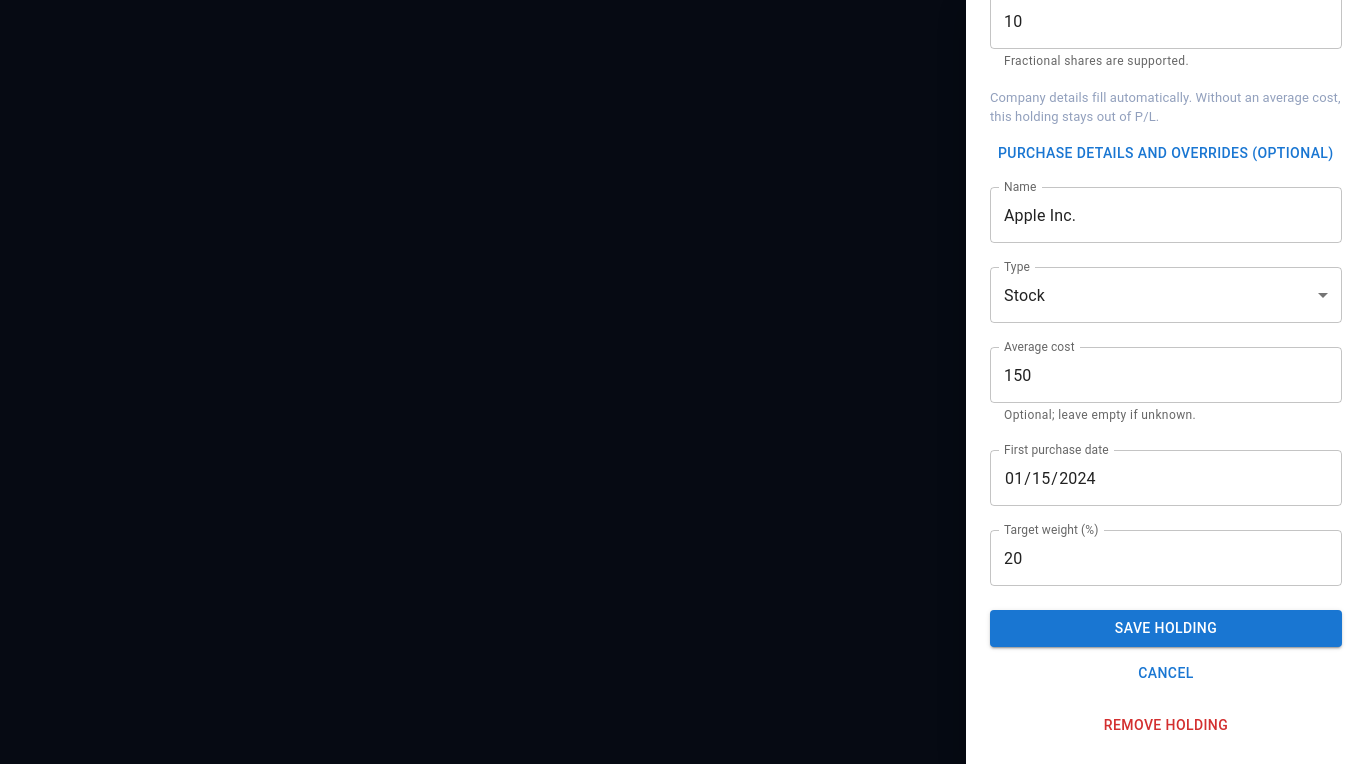
Test: HoldingForm › shows the backend's error inline and stays open
(page scrolled)
Step 1. Click the button "Save holding" → coordinates (1166, 629), box top-left (990, 610), bottom-right (1342, 647)
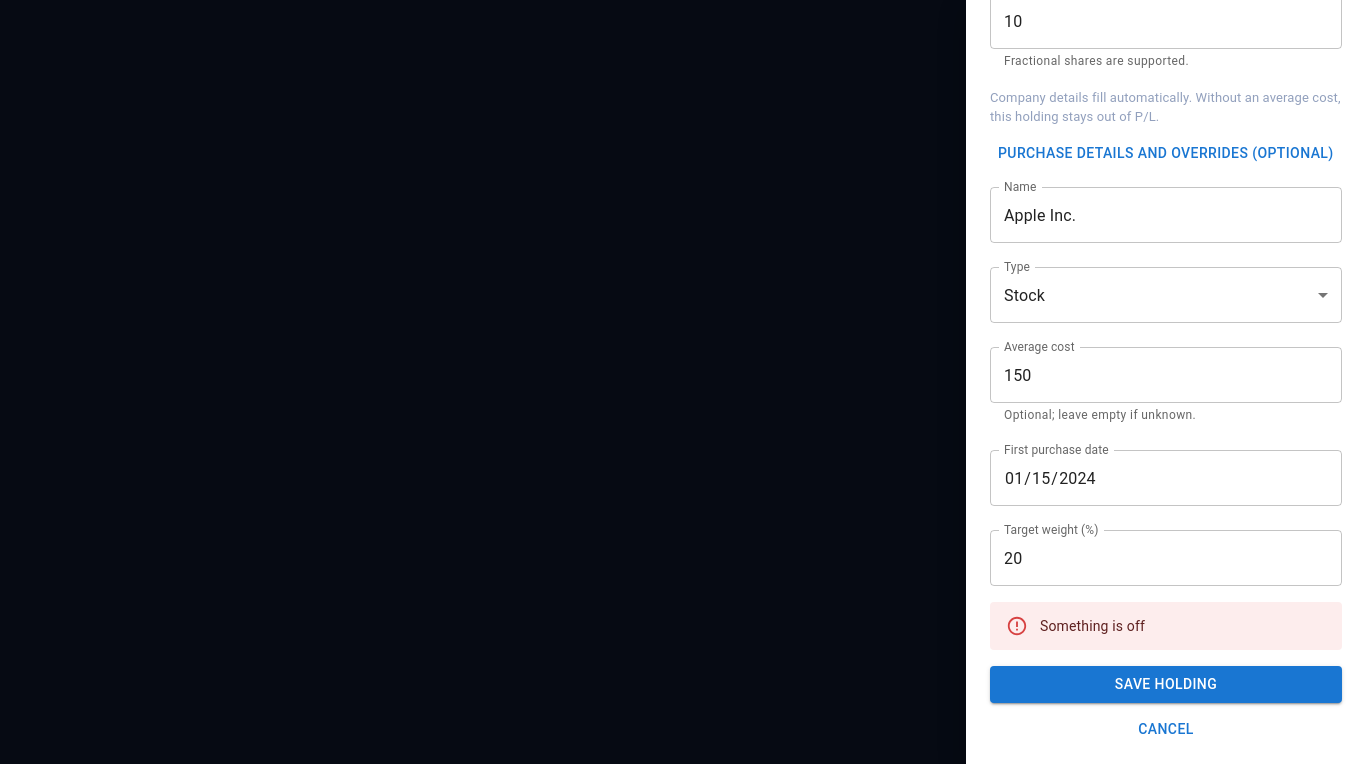
Now the text "Something is off" is shown, box top-left (1040, 618), bottom-right (1145, 634)
